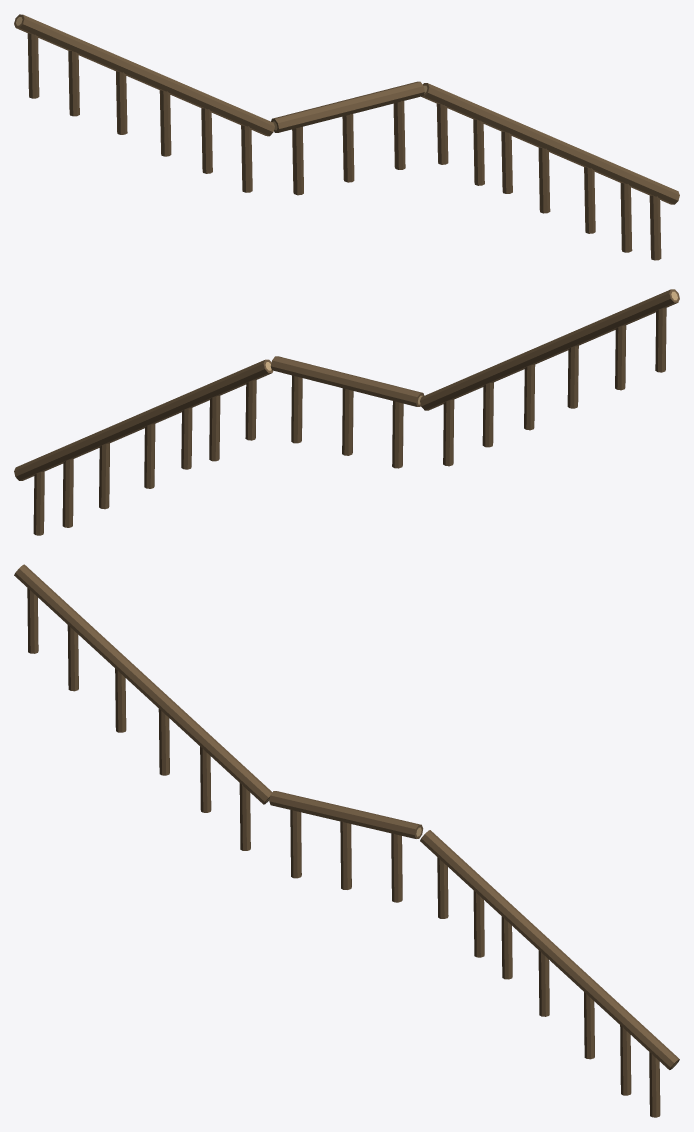
Rendered from rpgpp_ag_wall_platform_stairs_01c_4m_handrail_01.fbx.
3 renders of one model, top to bottom at view 1: azimuth 30°, elevation 25°; view 2: azimuth 150°, elevation 25°; view 3: azimuth 330°, elevation 25°, orthographic.
Parts seen in each view (by area): view 1: rpgpp_ag_wall_platform_stairs_01c_4m_handrail_01; view 2: rpgpp_ag_wall_platform_stairs_01c_4m_handrail_01; view 3: rpgpp_ag_wall_platform_stairs_01c_4m_handrail_01.
Boxes of the visible parts, box(x1,y1,x2,y2) form: rpgpp_ag_wall_platform_stairs_01c_4m_handrail_01: box(14, 14, 679, 260); rpgpp_ag_wall_platform_stairs_01c_4m_handrail_01: box(14, 289, 679, 535); rpgpp_ag_wall_platform_stairs_01c_4m_handrail_01: box(14, 564, 679, 1117).
Bounding box in the file's own units: 8.12 × 4.66 × 0.2064.
